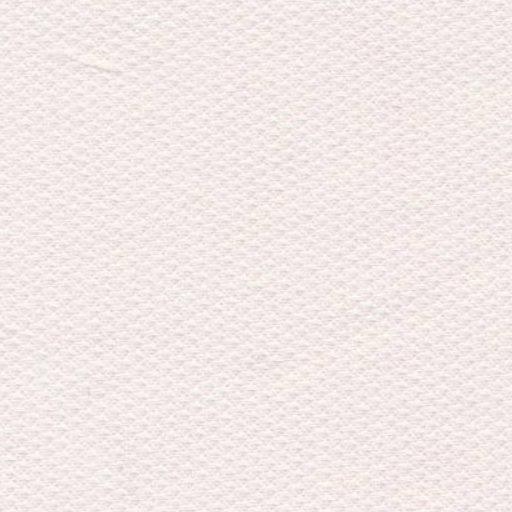DuanSha: (52, 30, 136, 94)
